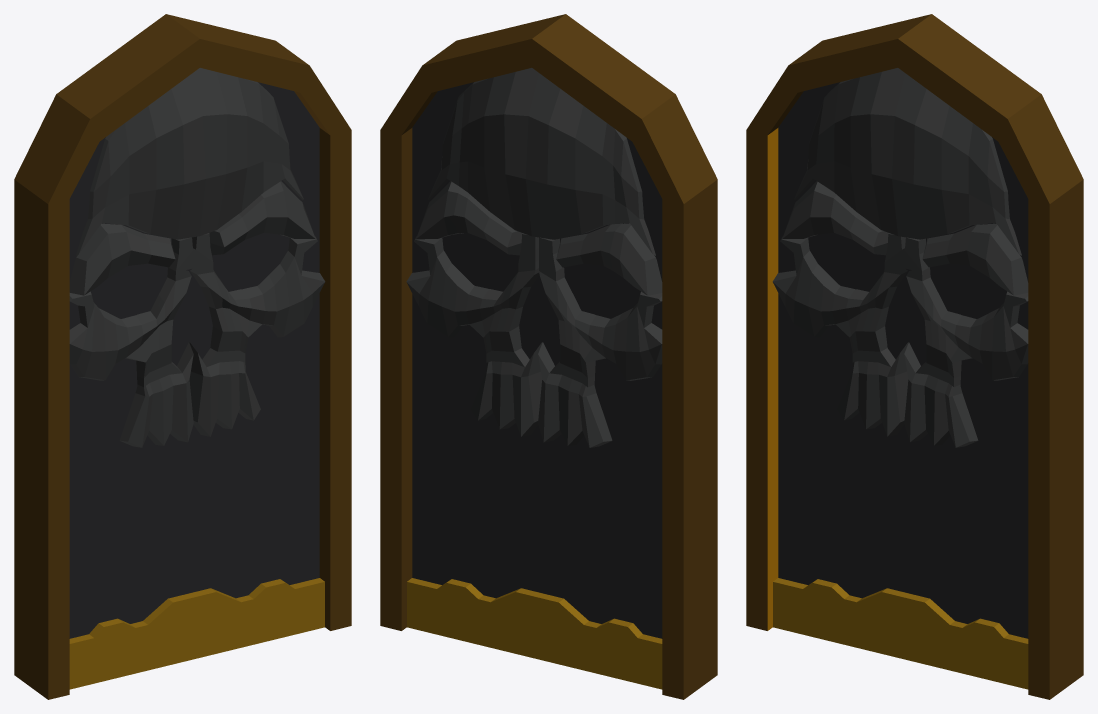
The model's file is Door_01.glb.
3 views of the same model, side by side, from view 1: azimuth 30°, elevation 25°; view 2: azimuth 150°, elevation 25°; view 3: azimuth 330°, elevation 25° (orthographic).
Parts seen in each view (by area): view 1: Door_01; view 2: Door_01; view 3: Door_01.
Part boxes in pixels (bbox=[...]): Door_01: bbox=[14, 14, 351, 699]; Door_01: bbox=[380, 14, 717, 699]; Door_01: bbox=[746, 14, 1083, 699].
Size of what is drawn, in the model's own units: 1.65 by 3.24 by 0.4371.
1 material, 1 textured.
